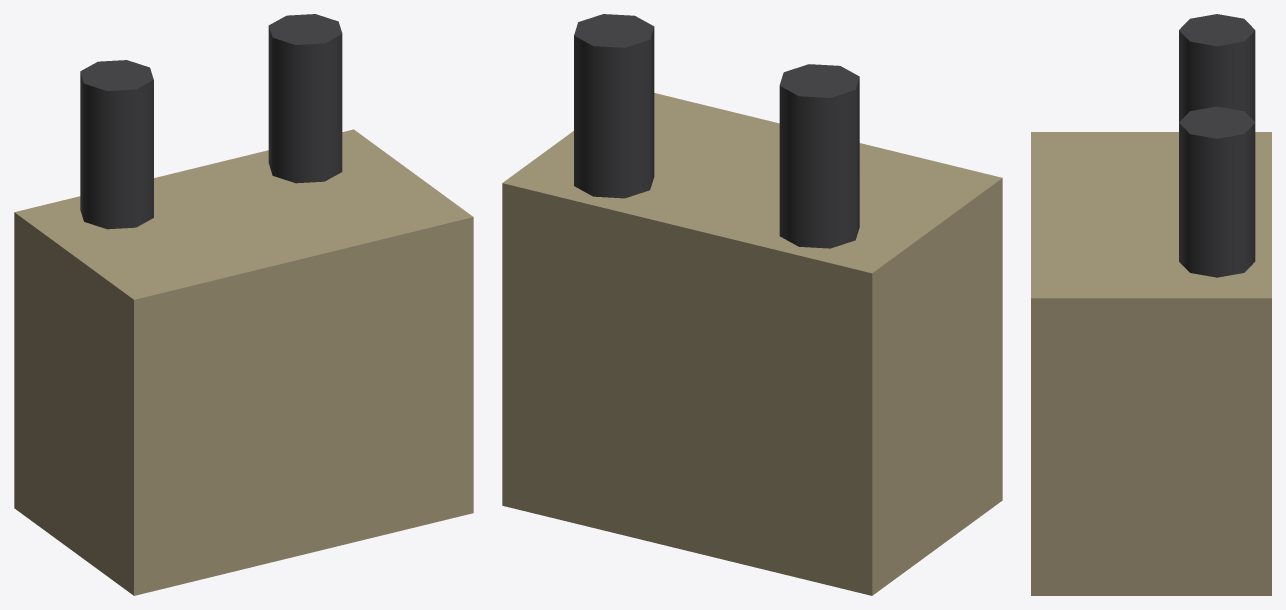
File: rcs4_driver.obj
The picture shows the model from 3 angles, left to right: view 1: azimuth 30°, elevation 25°; view 2: azimuth 150°, elevation 25°; view 3: azimuth 270°, elevation 25°; orthographic projection. The views are drawn at different scales.
Parts seen in each view (by area): view 1: rcs4_driver; view 2: rcs4_driver; view 3: rcs4_driver.
Boxes of the visible parts, box(x1,y1,x2,y2) form: rcs4_driver: box(14, 14, 473, 595); rcs4_driver: box(502, 14, 1002, 595); rcs4_driver: box(1031, 14, 1271, 595).
Bounding box in the file's own units: 0.36 × 0.44 × 0.22.
